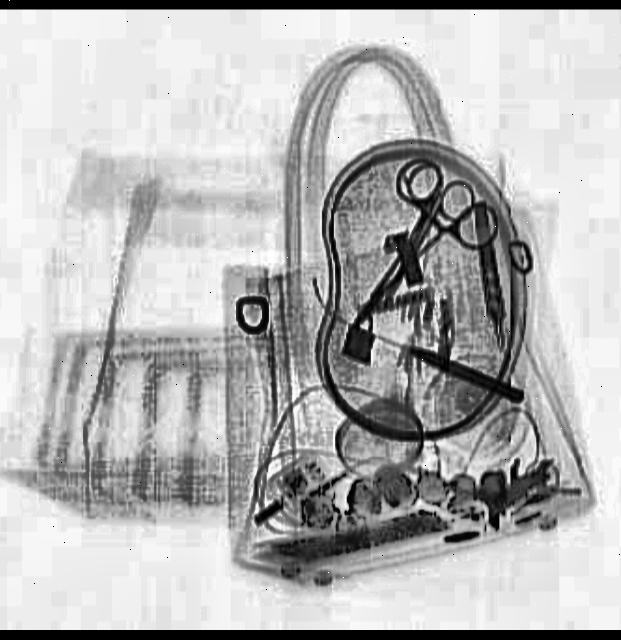Scissors: (308, 149, 503, 378), (348, 146, 479, 308)
